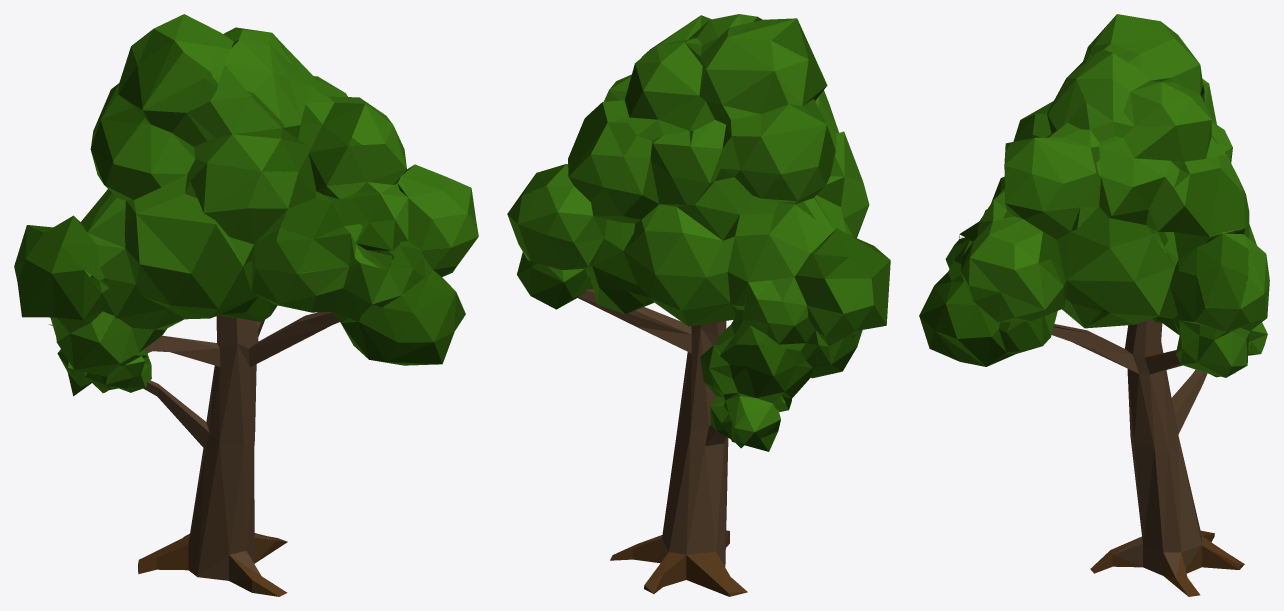
Rendered from tree6.glb.
3 renders of one model, left to right at view 1: azimuth 30°, elevation 25°; view 2: azimuth 150°, elevation 25°; view 3: azimuth 270°, elevation 25°, orthographic. The views are drawn at different scales.
Parts seen in each view (by area): view 1: _6_tree; view 2: _6_tree; view 3: _6_tree.
Boxes of the visible parts, <box> form: _6_tree: <box>14,14,478,596</box>; _6_tree: <box>507,14,890,596</box>; _6_tree: <box>919,14,1269,596</box>.
Size of the model in its own units: 1.74 by 2.6 by 1.6.
1 material, 1 textured.
